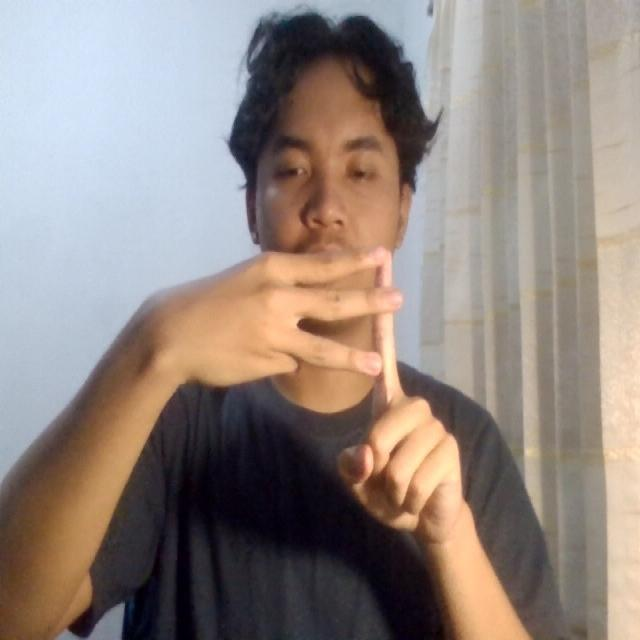B: (171, 224, 473, 560)
